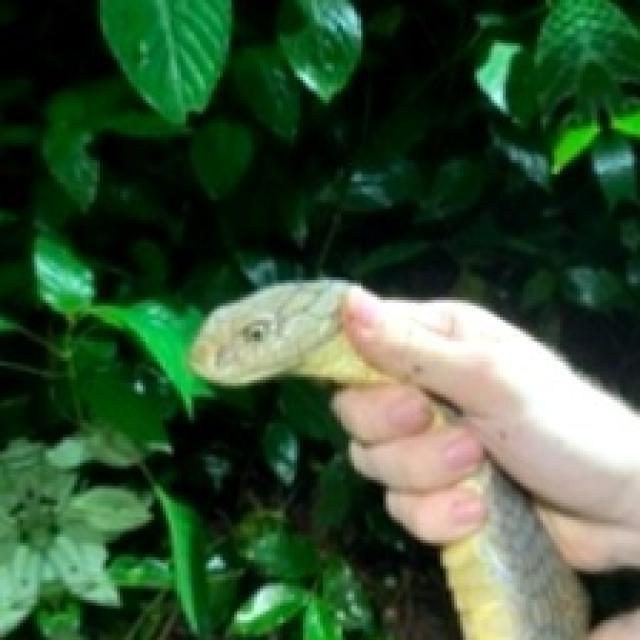king cobra: (191, 280, 637, 637)
